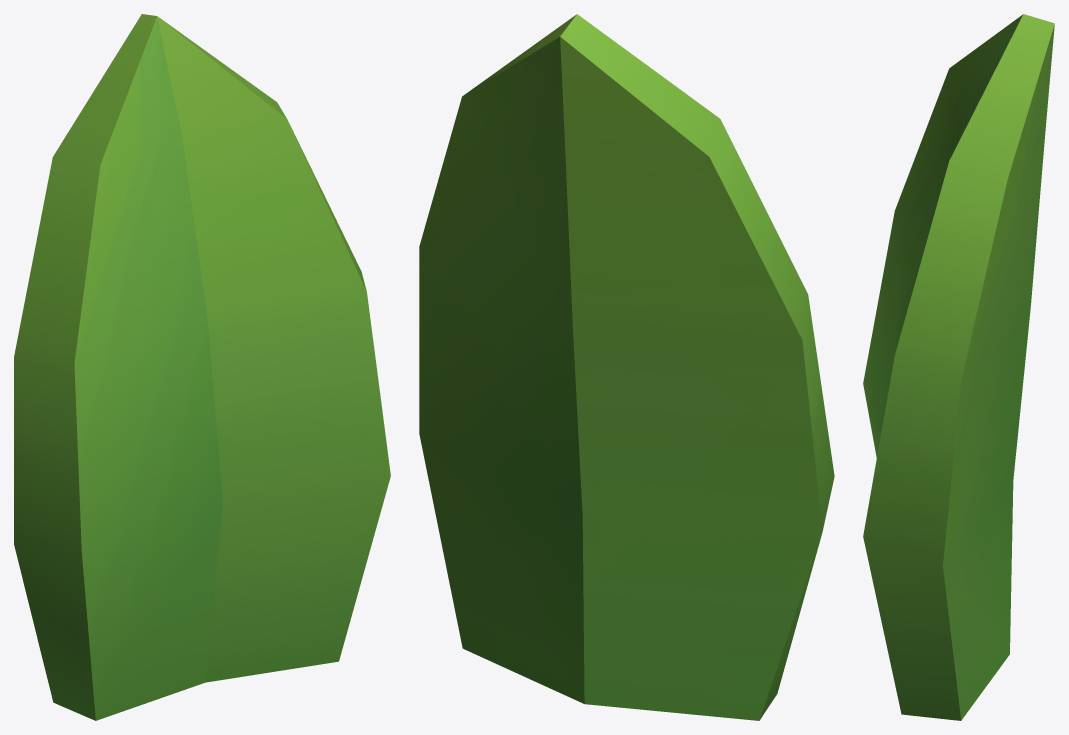
Rendered from grass_1_a_color1.f868d275.glb.
3 renders of one model, left to right at view 1: azimuth 30°, elevation 25°; view 2: azimuth 150°, elevation 25°; view 3: azimuth 270°, elevation 25°, orthographic. The views are drawn at different scales.
Visible parts, largest first — view 1: Grass_1_A_Color1; view 2: Grass_1_A_Color1; view 3: Grass_1_A_Color1.
Boxes of the visible parts, box(x1,y1,x2,y2) form: Grass_1_A_Color1: box(14, 14, 390, 720); Grass_1_A_Color1: box(419, 14, 834, 720); Grass_1_A_Color1: box(863, 14, 1054, 720).
Bounding box in the file's own units: 0.3393 × 0.5593 × 0.1518.
1 material, 1 textured.
